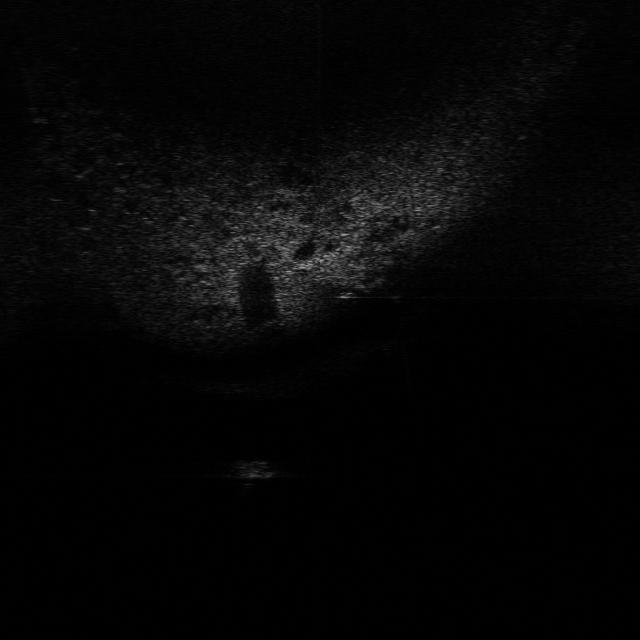ball: (373, 258, 417, 305)
cube: (221, 455, 288, 481)
